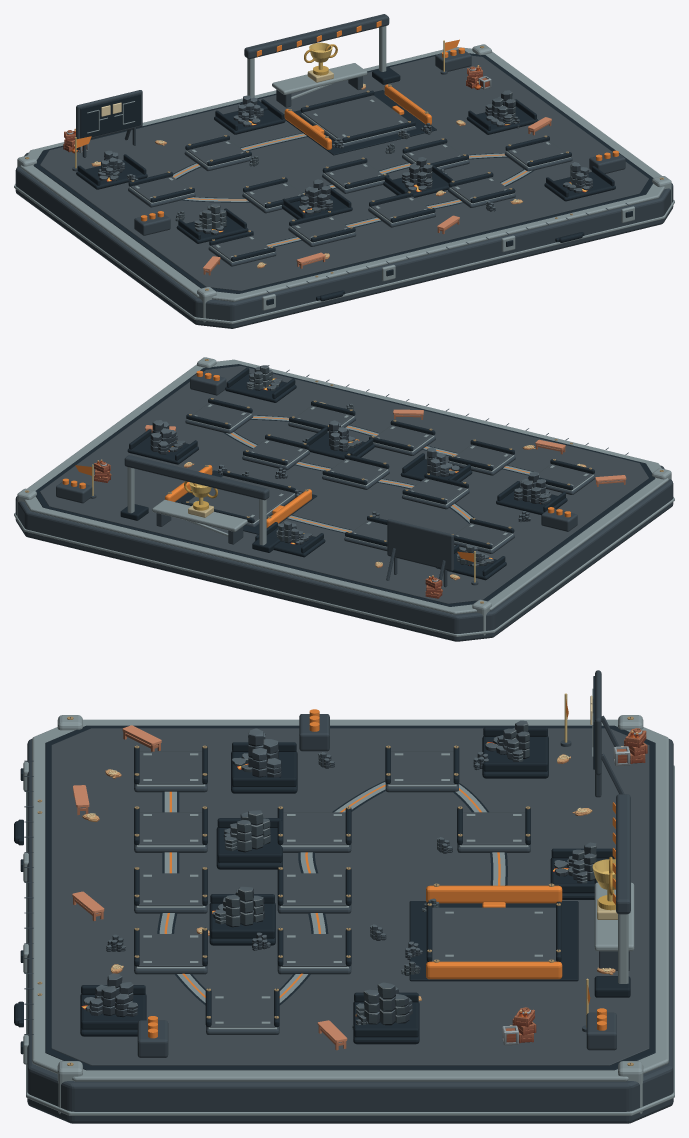
The model's file is vulkara.glb.
The picture shows the model from 3 angles, top to bottom: view 1: azimuth 30°, elevation 25°; view 2: azimuth 150°, elevation 25°; view 3: azimuth 270°, elevation 25°; orthographic projection. The views are drawn at different scales.
Visible parts, largest first — view 1: Static tournament table • material batches; view 2: Static tournament table • material batches; view 3: Static tournament table • material batches.
Boxes of the visible parts, box(x1,y1,x2,y2) form: Static tournament table • material batches: box(14, 14, 674, 328); Static tournament table • material batches: box(14, 357, 674, 641); Static tournament table • material batches: box(14, 670, 674, 1123).
Size of the model in its own units: 24.1 by 5.02 by 18.41.
